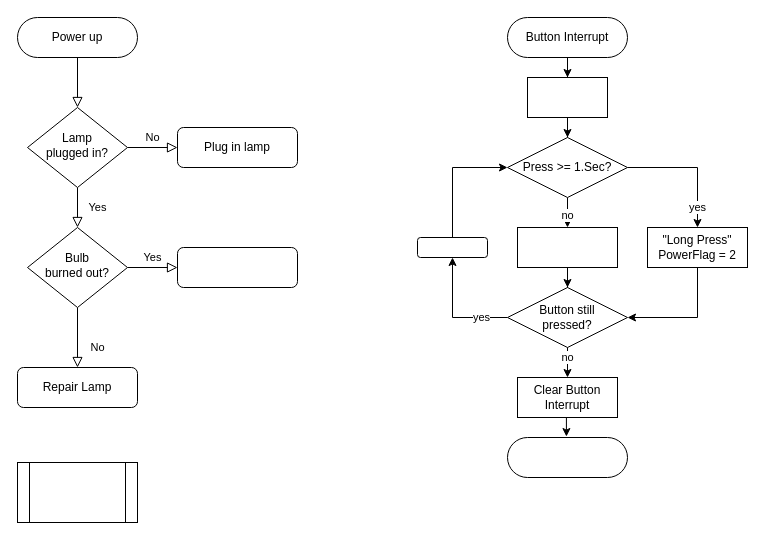
This 765x540 diagram has some shape labels left out. Each missing label, with the box of its shape:
"Short Press" PowerFlag = 1: (516, 226, 618, 268)
Delay 50us: (416, 236, 488, 258)
Delay 50us (Debounce): (526, 76, 608, 118)
Replace Bulb: (176, 246, 298, 288)
Return: (506, 436, 628, 478)
